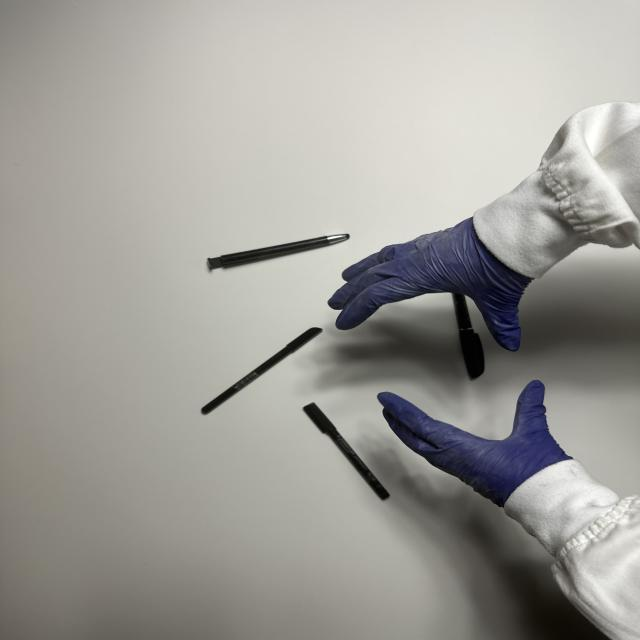gloves_contaminated: (328, 218, 532, 351), (380, 382, 571, 506)
